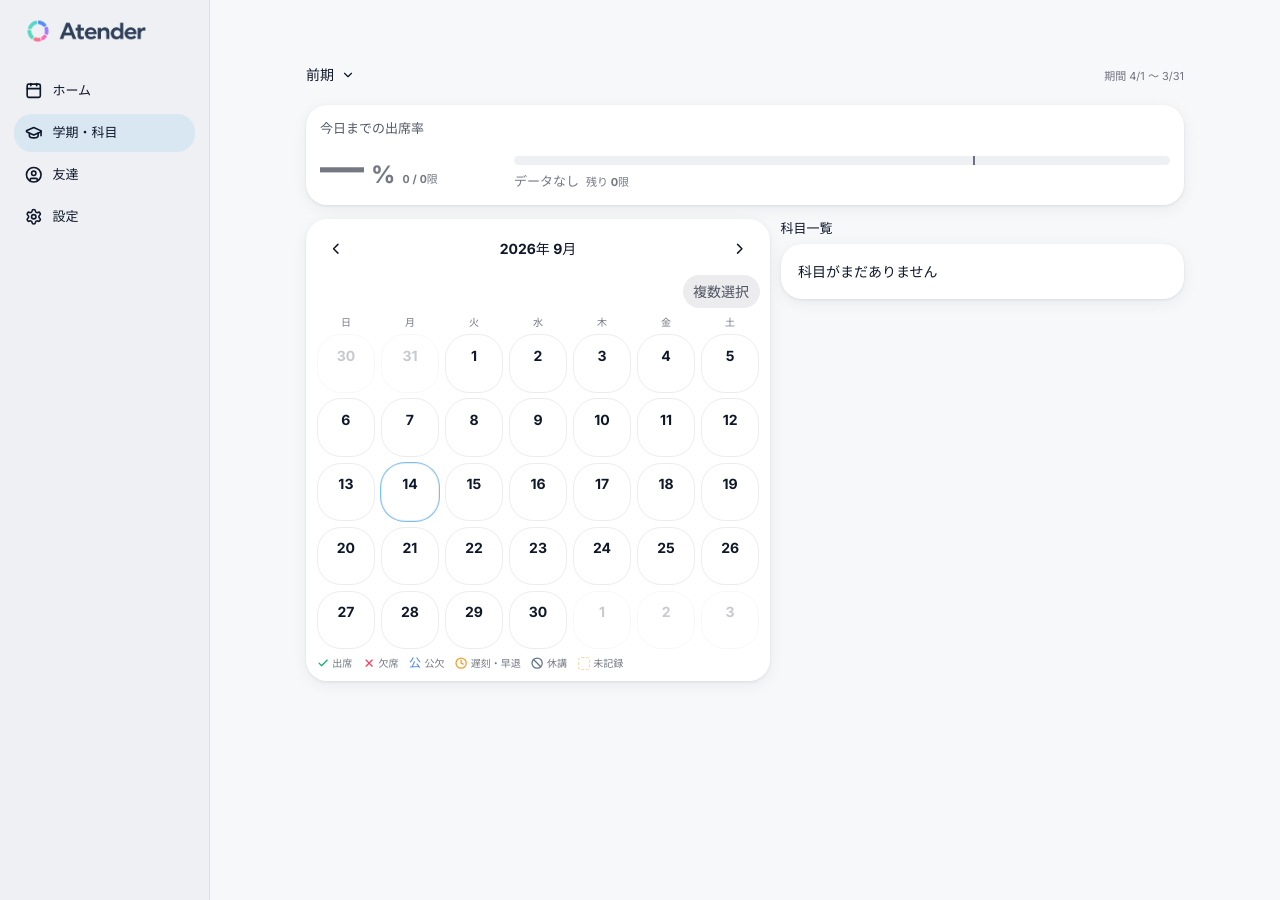
[D] class transfer in day detail › [D1] section sits between 休講 and 授業 (N), has 授業変更 button
Click the button named "9月14日" at (410, 492), box top-left (380, 462), bottom-right (439, 521)
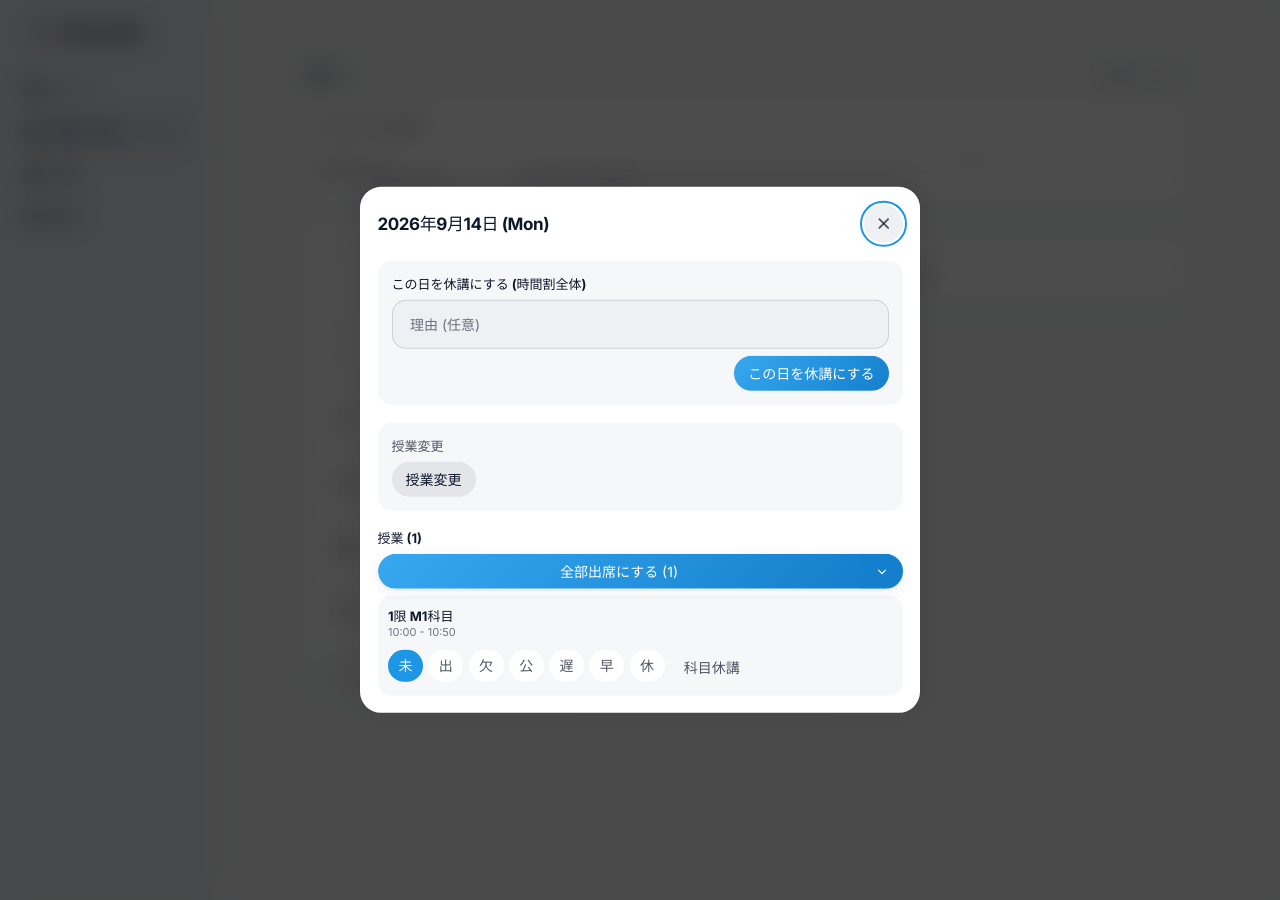
expect the heading "2026年9月14日 (Mon)" is shown: met, box top-left (378, 210), bottom-right (549, 237)
expect the button "授業変更" is shown: met, box top-left (392, 462), bottom-right (476, 497)
